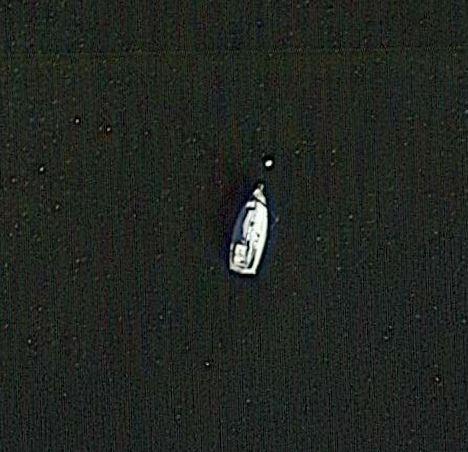boat: (224, 176, 276, 281)
